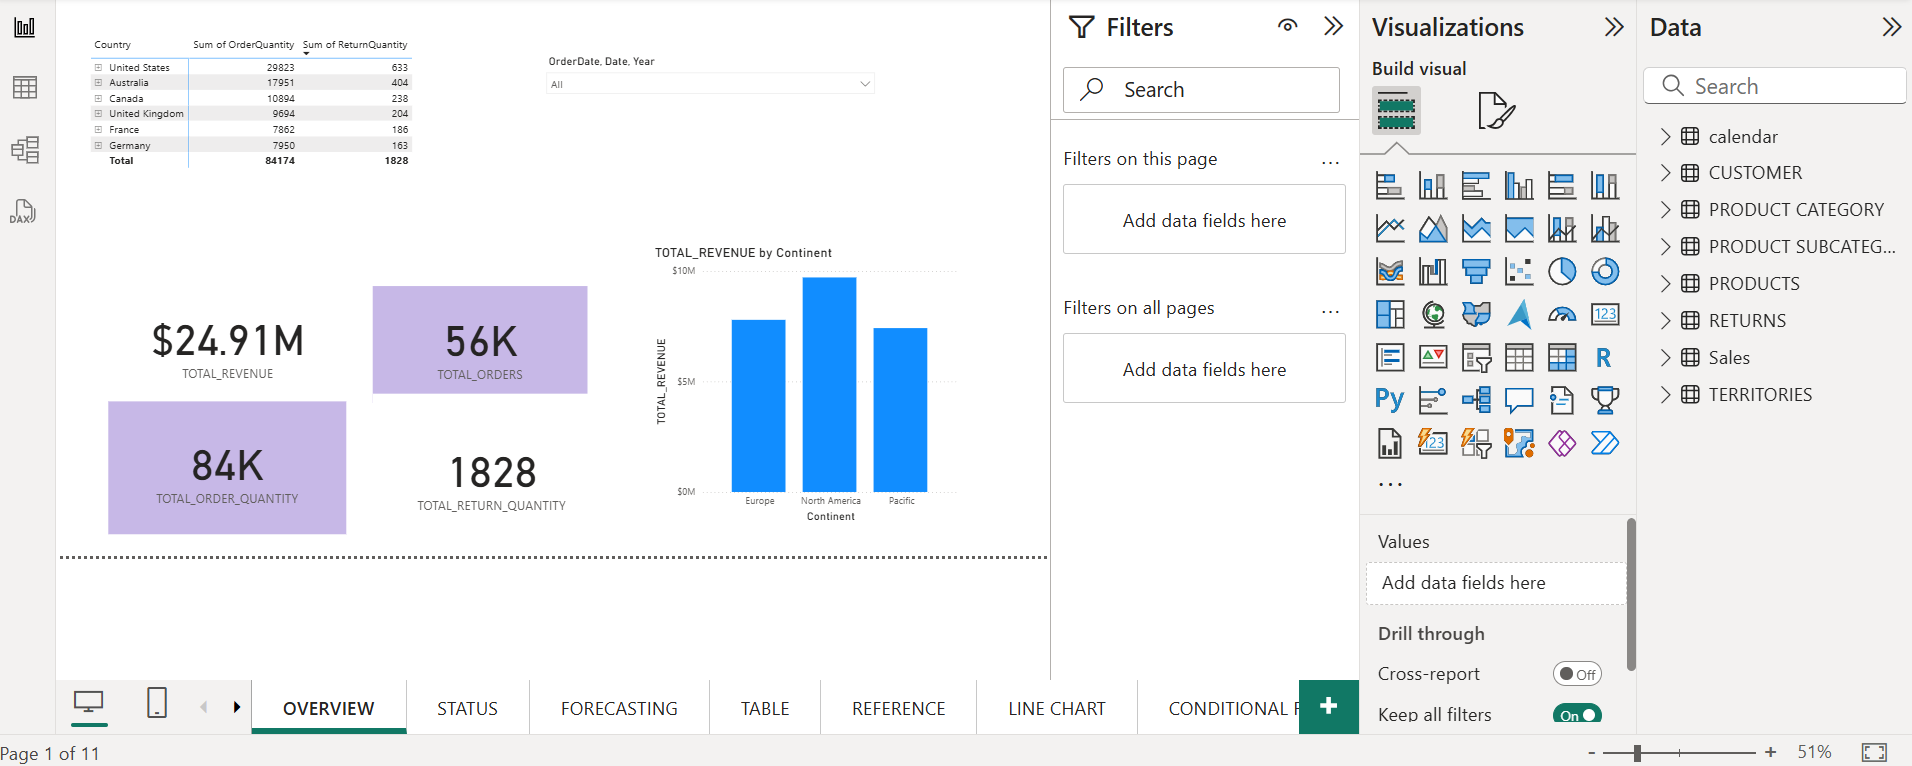

Layout of this report page (visuals, bound fields, positions):
{"tool":"powerbi","page":{"name":"OVERVIEW","canvas":[1280,720],"ordinal":0},"visuals":[{"type":"pivotTable","fields":{"Rows":["TERRITORIES.Country","PRODUCTS.ProductName"],"Values":["Sum(Sales.OrderQuantity)","Sum(RETURNS.ReturnQuantity)"]},"box":[39.9,44.9,442.6,208],"z":0},{"type":"card","fields":{"Values":["Sales.TOTAL_REVENUE"]},"box":[0,341.1,442.6,211.3],"z":1000},{"type":"card","fields":{"Values":["Sales.TOTAL_ORDERS"]},"box":[407.7,371,276.2,149.8],"z":2000},{"type":"card","fields":{"Values":["Sales.TOTAL_ORDER_QUANTITY"]},"box":[68.2,520.8,306.2,171.4],"z":3000},{"type":"card","fields":{"Values":["RETURNS.TOTAL_RETURN_QUANTITY"]},"box":[407.7,510.8,306.2,209.7],"z":4000},{"type":"slicer","fields":{"Values":["Sales.OrderDate","calendar.Date","calendar.Date.Variation.Date Hierarchy.Year"]},"box":[620.6,69.9,442.6,214.6],"z":5000},{"type":"clusteredColumnChart","fields":{"Category":["TERRITORIES.GEOGRAPHY.Continent","TERRITORIES.GEOGRAPHY.Region","TERRITORIES.GEOGRAPHY.Country"],"Y":["Sales.TOTAL_REVENUE"]},"box":[765.4,317.8,401,362.7],"z":6000}]}

Visuals, with their boxes on the page's 1280x720 design canvas (x1, y1, x2, y2). These are canvas units, not pixel positions in the 1912x766 screenshot, which may show the page scaled, cropped or inside an application window:
pivotTable - TERRITORIES.Country x PRODUCTS.ProductName: box(40, 45, 482, 253)
card - Sales.TOTAL_REVENUE: box(0, 341, 443, 552)
card - Sales.TOTAL_ORDERS: box(408, 371, 684, 521)
card - Sales.TOTAL_ORDER_QUANTITY: box(68, 521, 374, 692)
card - RETURNS.TOTAL_RETURN_QUANTITY: box(408, 511, 714, 720)
slicer - Sales.OrderDate x calendar.Date: box(621, 70, 1063, 284)
clusteredColumnChart - TERRITORIES.GEOGRAPHY.Continent x TERRITORIES.GEOGRAPHY.Region: box(765, 318, 1166, 680)
